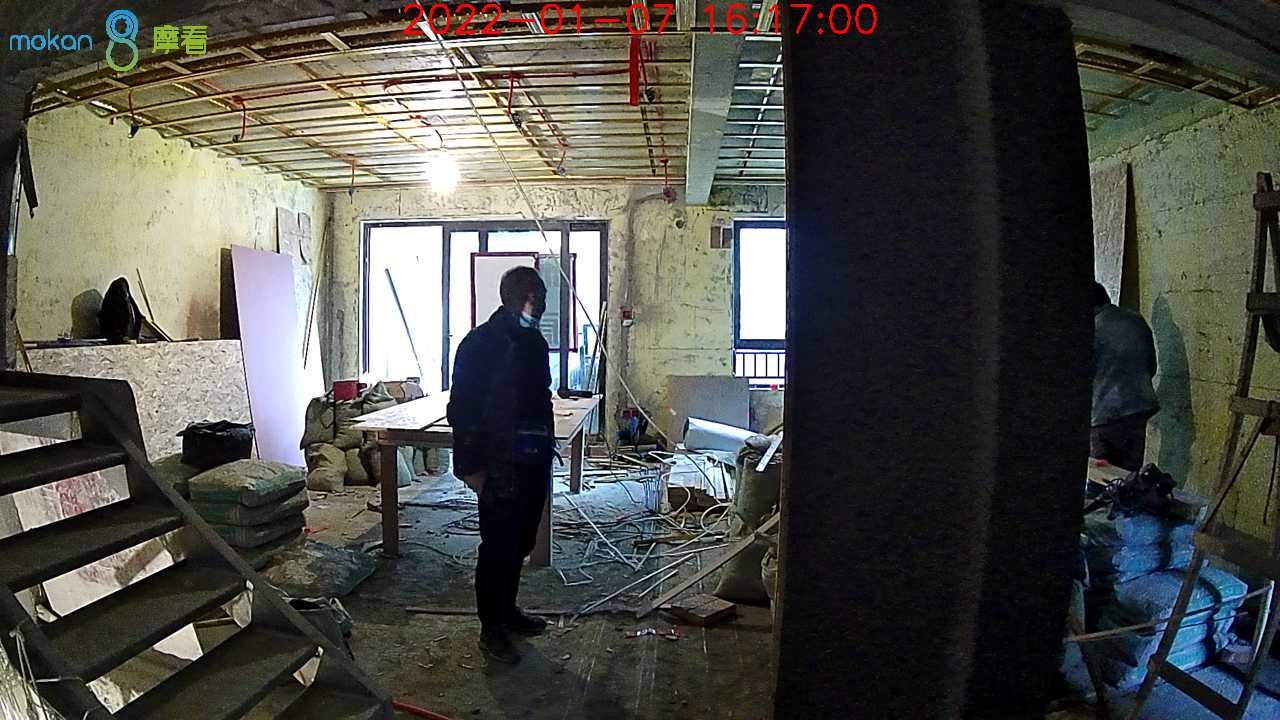people: (441, 264, 557, 667), (1093, 278, 1160, 479)
window: (362, 223, 608, 409)
